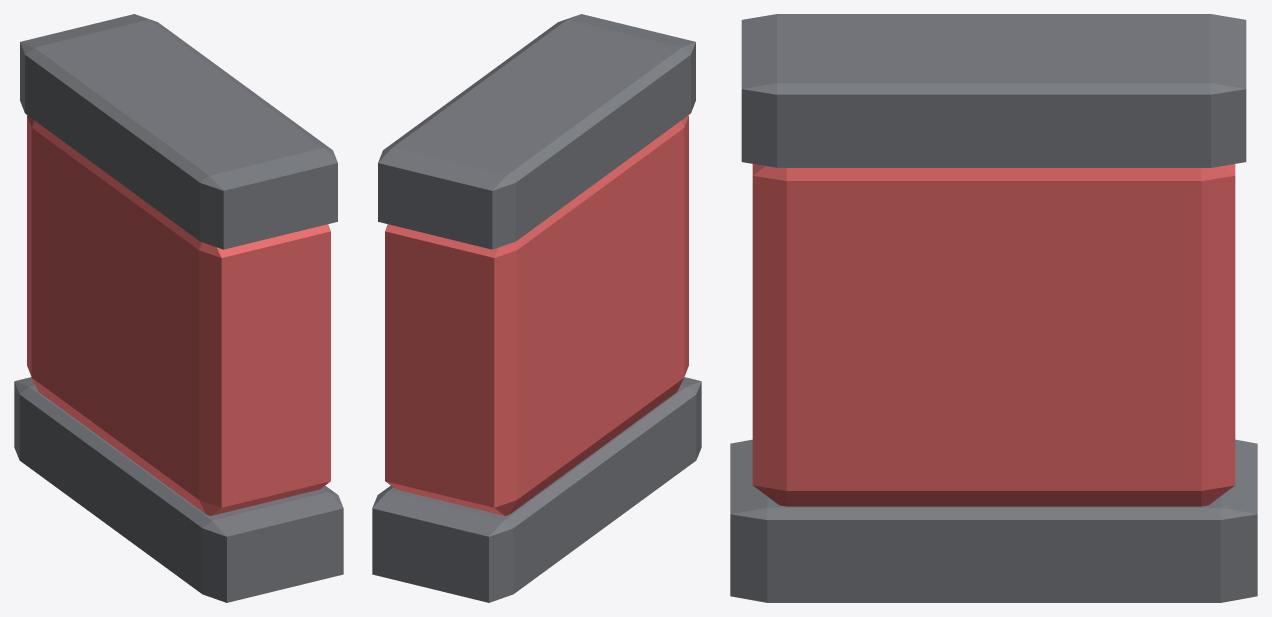
File: b12_fire_escape_stair_flight.glb
3 views of the same model, side by side, from view 1: azimuth 30°, elevation 25°; view 2: azimuth 150°, elevation 25°; view 3: azimuth 270°, elevation 25° (orthographic). The views are drawn at different scales.
Visible parts, largest first — view 1: b12_fire_escape_stair_flight; view 2: b12_fire_escape_stair_flight; view 3: b12_fire_escape_stair_flight.
Boxes of the visible parts, x1=… form: b12_fire_escape_stair_flight: x1=14, y1=14, x2=343, y2=602; b12_fire_escape_stair_flight: x1=372, y1=14, x2=701, y2=602; b12_fire_escape_stair_flight: x1=730, y1=14, x2=1257, y2=602.
Size of the model in its own units: 1.04 by 3.08 by 2.83.
